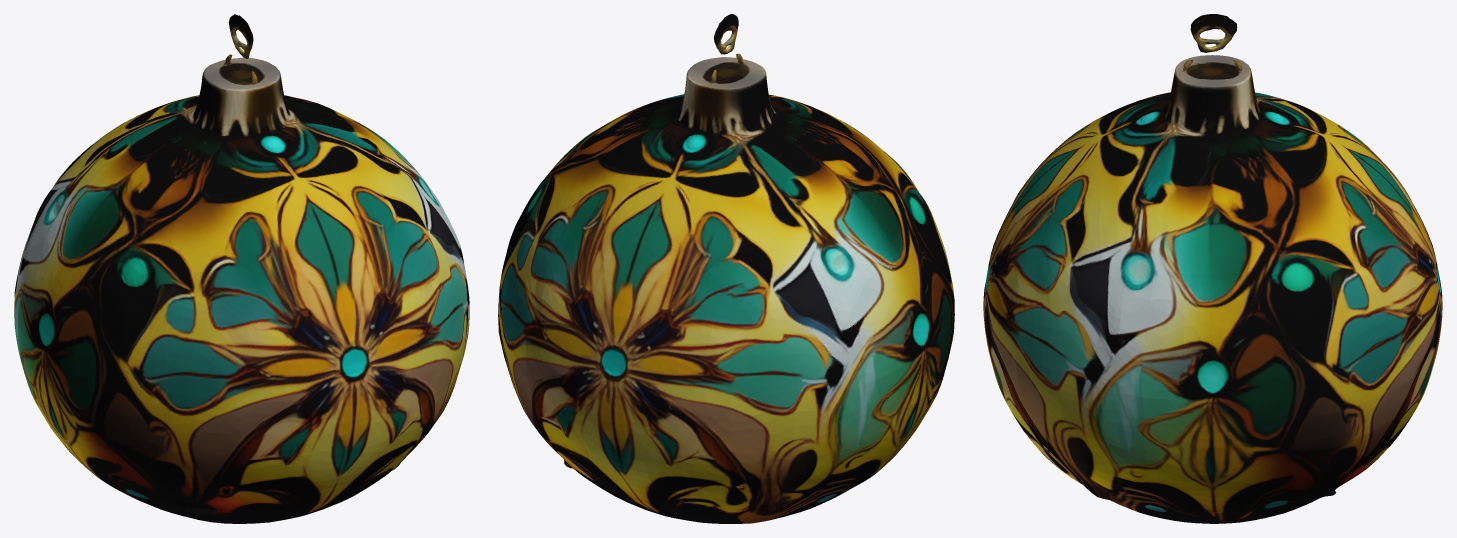
File: porcelain-ornament-art-deco.jpeg.glb
The picture shows the model from 3 angles, left to right: view 1: azimuth 30°, elevation 25°; view 2: azimuth 150°, elevation 25°; view 3: azimuth 270°, elevation 25°; orthographic projection.
Visible parts, largest first — view 1: world; view 2: world; view 3: world.
Part boxes in pixels (x1,y1,x2,y2): world: (14, 14, 469, 523); world: (498, 14, 954, 523); world: (983, 14, 1442, 523).
Size of the model in its own units: 0.8503 by 0.9945 by 0.8505.
Materials: 1 (1 with a texture image).
